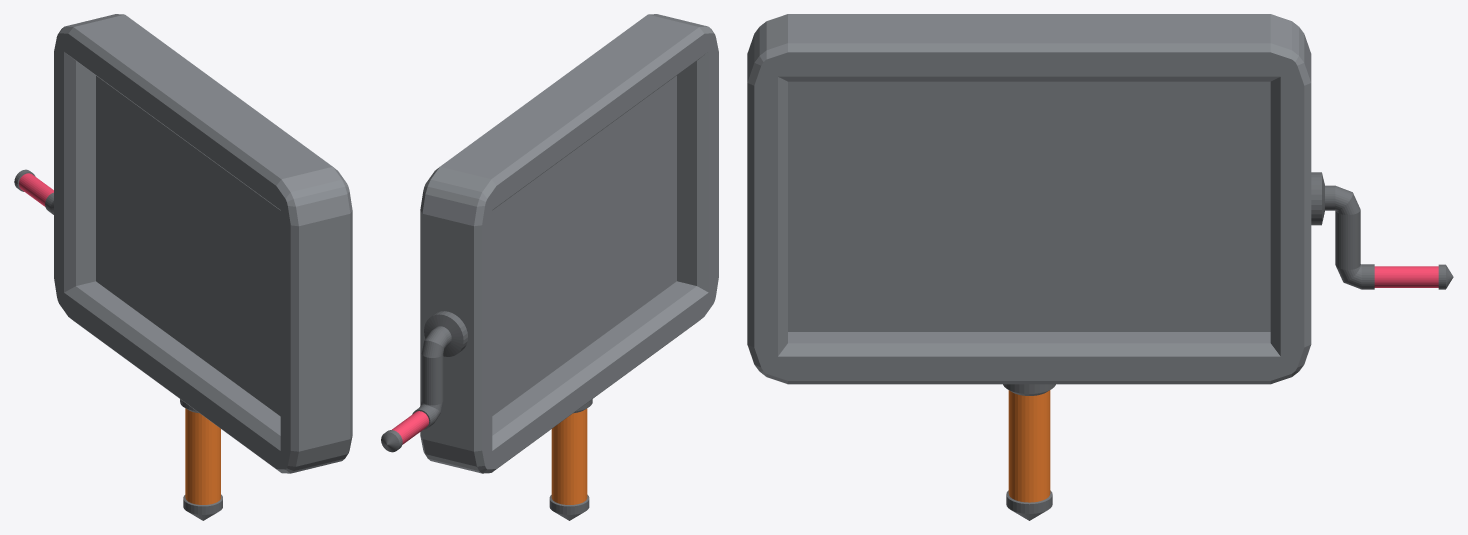
The model's file is MGlass.fbx.
3 views of the same model, side by side, from view 1: azimuth 30°, elevation 25°; view 2: azimuth 150°, elevation 25°; view 3: azimuth 270°, elevation 25° (orthographic). The views are drawn at different scales.
Visible parts, largest first — view 1: GlassCenter, Handle, Crank; view 2: GlassCenter, Crank, Handle; view 3: GlassCenter, Handle, Crank.
Part boxes in pixels (bbox=[...]): GlassCenter: bbox=[54, 14, 352, 473]; Handle: bbox=[180, 399, 222, 520]; Crank: bbox=[14, 169, 53, 214]; GlassCenter: bbox=[420, 14, 718, 473]; Crank: bbox=[381, 311, 467, 452]; Handle: bbox=[549, 399, 592, 520]; GlassCenter: bbox=[747, 14, 1311, 384]; Handle: bbox=[1003, 384, 1055, 520]; Crank: bbox=[1311, 172, 1453, 289].
Bounding box in the file's own units: 17.16 × 113 × 146.
Materials: 3 (3 with a texture image).
